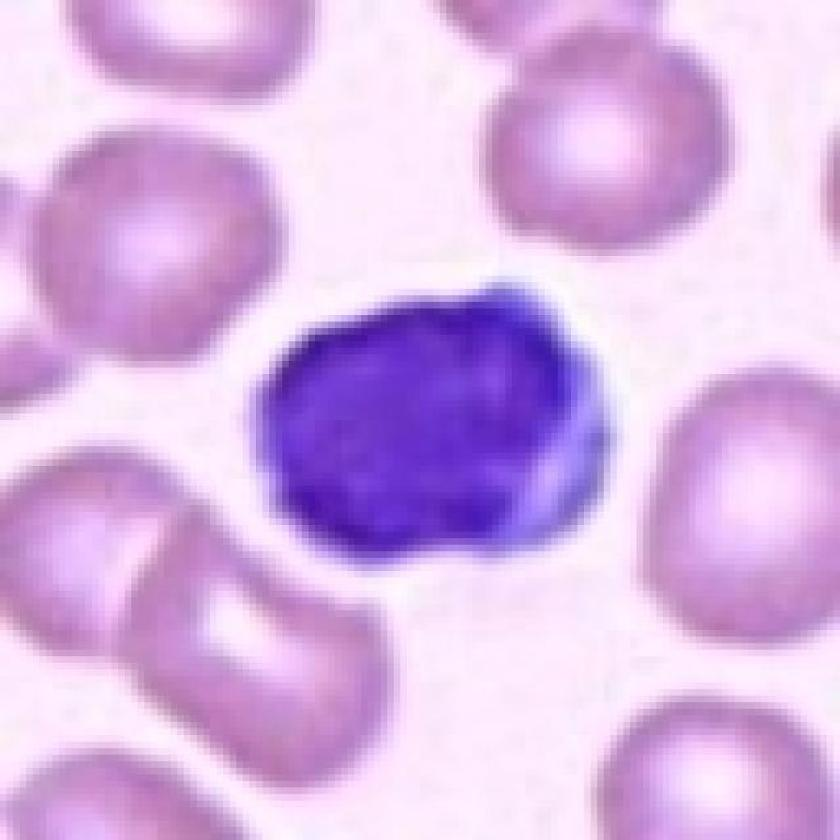lymphocyte: (245, 272, 617, 571)
